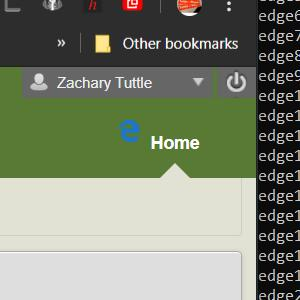edge: (117, 120, 141, 143)
